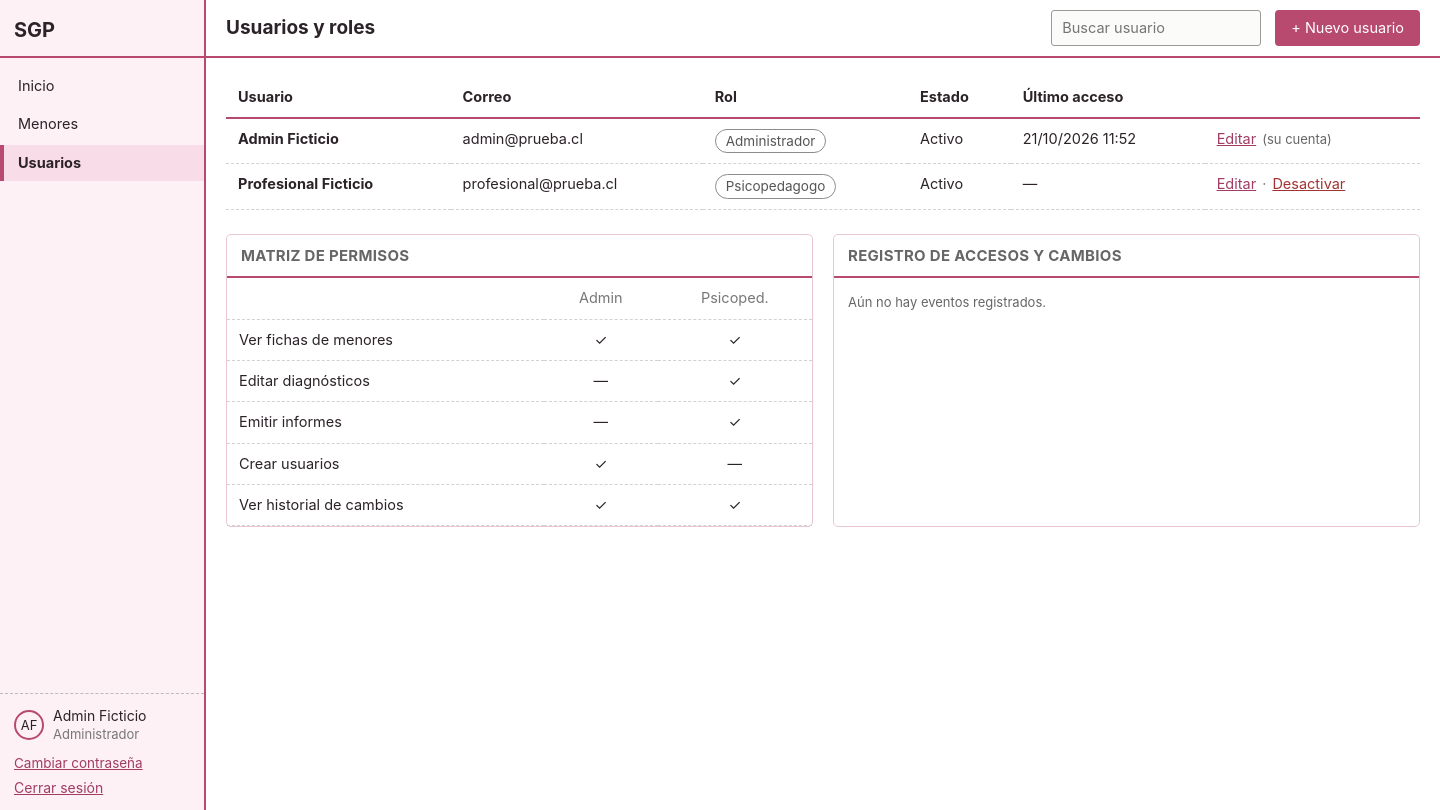
Scenario: Usuarios y roles (administrador) › desactiva una cuenta tras confirmar en el modal de la aplicación
Expected: the cell "profesional@prueba.cl" is shown, x1=451 y1=164 x2=703 y2=210
Step 1. Click the button "Desactivar" → point(1309, 185), box x1=1272 y1=174 x2=1345 y2=195
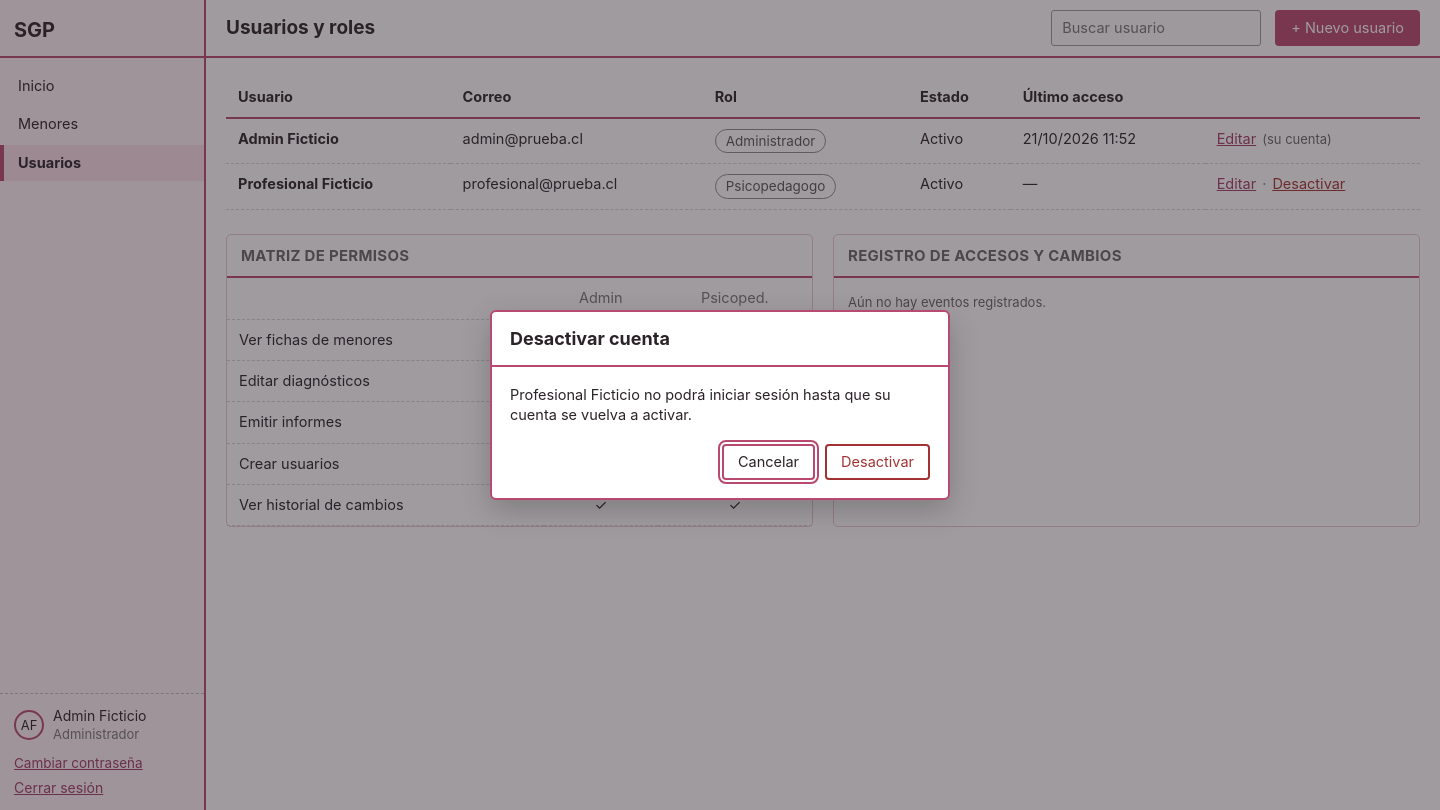
Step 2. Click the button "Desactivar" → point(878, 462), box x1=825 y1=444 x2=930 y2=480
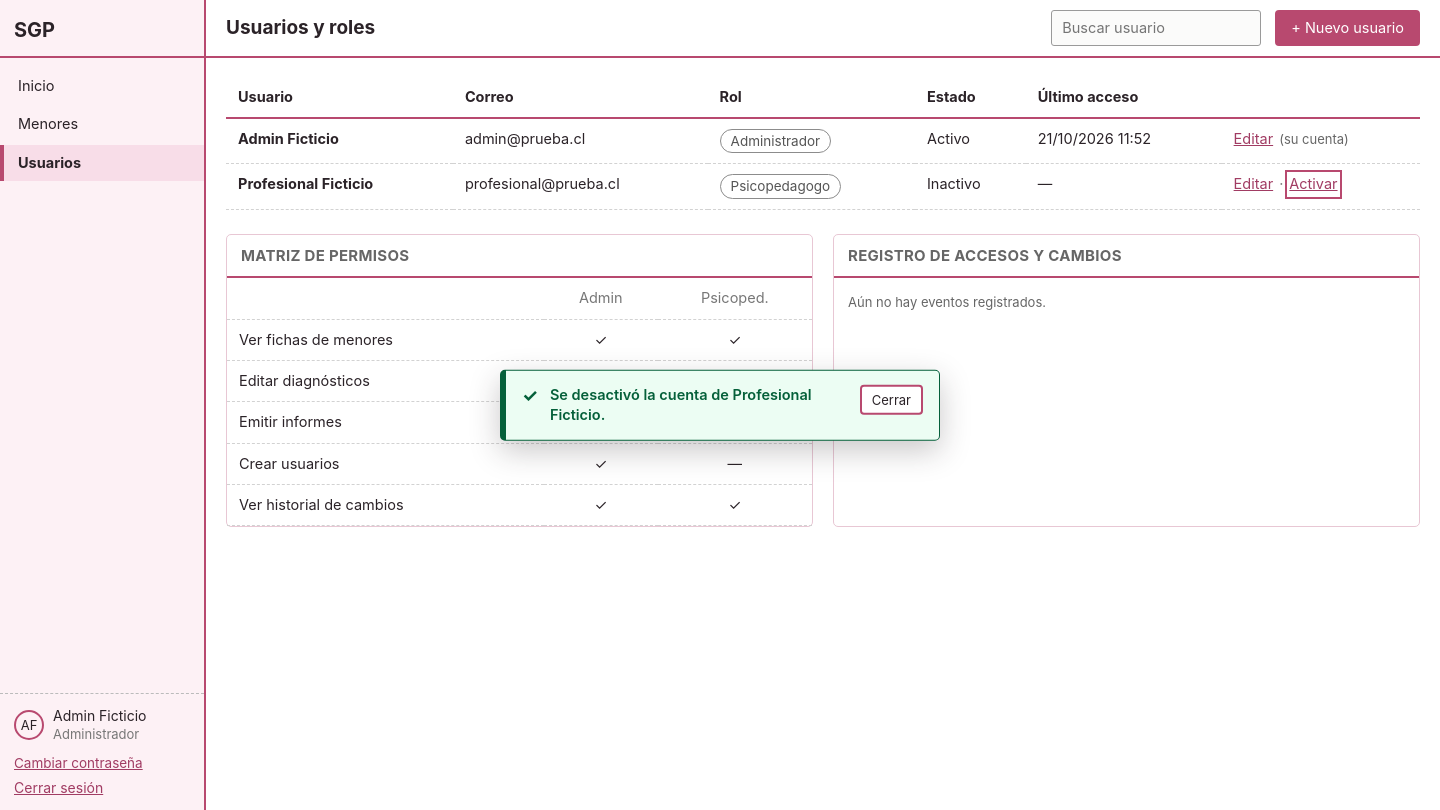
Expected: the text "Inactivo" is shown, x1=915 y1=164 x2=1026 y2=210
Expected: the dialog is gone
